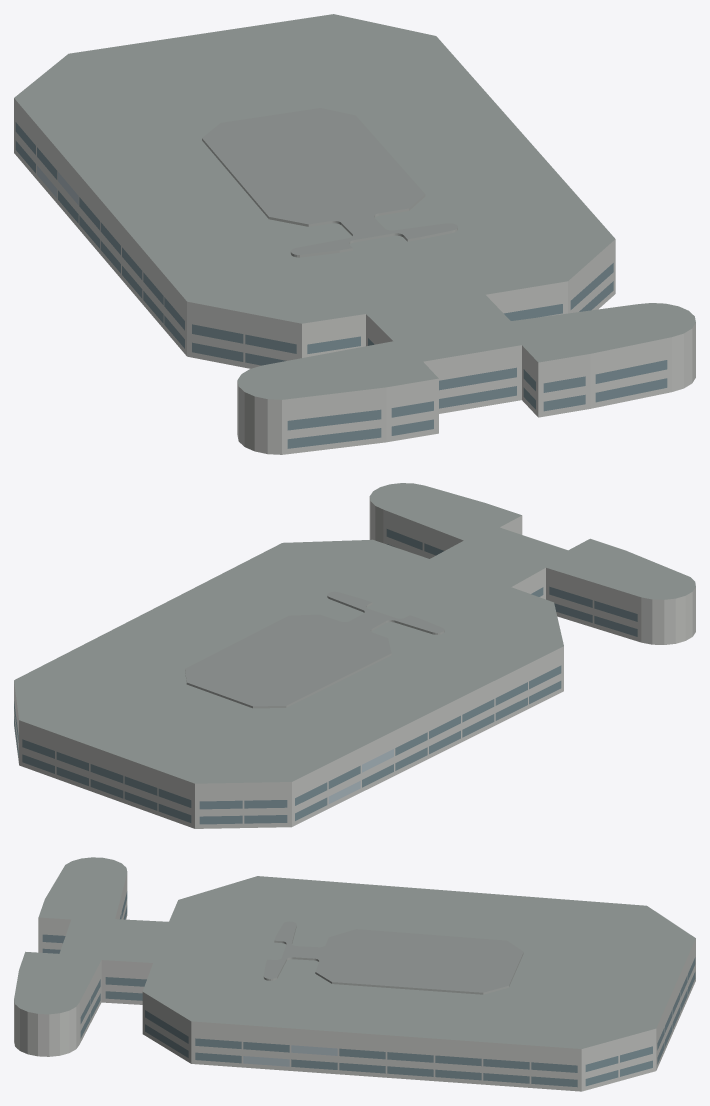
File: landmark-34a29d73-9cac-4077-9573-8dcf81d3317b.glb
The picture shows the model from 3 angles, top to bottom: view 1: azimuth 30°, elevation 25°; view 2: azimuth 150°, elevation 25°; view 3: azimuth 270°, elevation 25°; orthographic projection. The views are drawn at different scales.
Visible parts, largest first — view 1: landmark-34a29d73-9cac-4077-9573-8dcf81d3317b; view 2: landmark-34a29d73-9cac-4077-9573-8dcf81d3317b; view 3: landmark-34a29d73-9cac-4077-9573-8dcf81d3317b.
Part boxes in pixels (x1,y1,x2,y2): landmark-34a29d73-9cac-4077-9573-8dcf81d3317b: (14, 14, 695, 454); landmark-34a29d73-9cac-4077-9573-8dcf81d3317b: (14, 483, 695, 828); landmark-34a29d73-9cac-4077-9573-8dcf81d3317b: (14, 857, 695, 1091).
Size of the model in its own units: 88.48 by 9.56 by 133.
